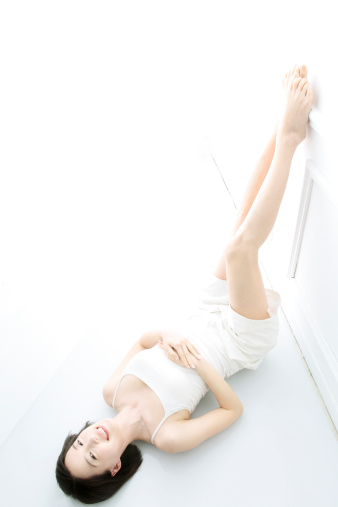deitado: (32, 42, 311, 507)
